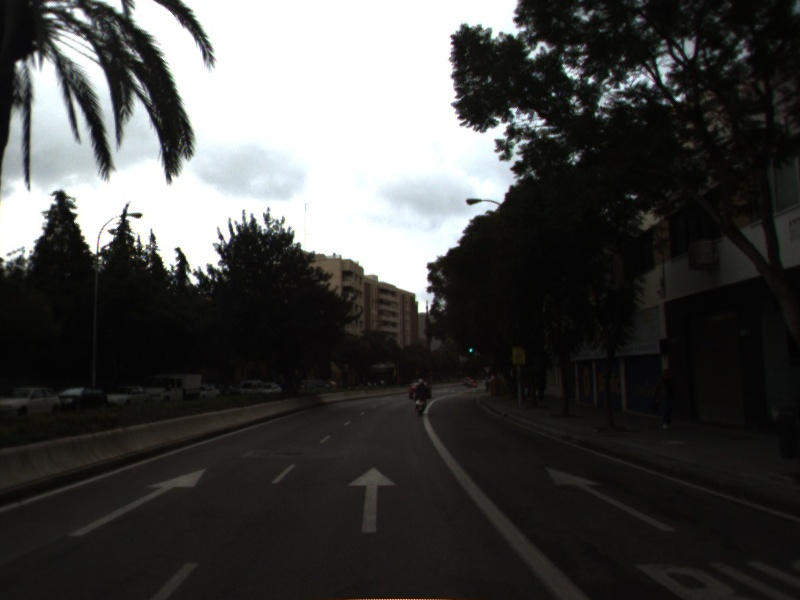STRAIGHT: (65, 466, 209, 539), (543, 464, 677, 533), (345, 465, 399, 535)
